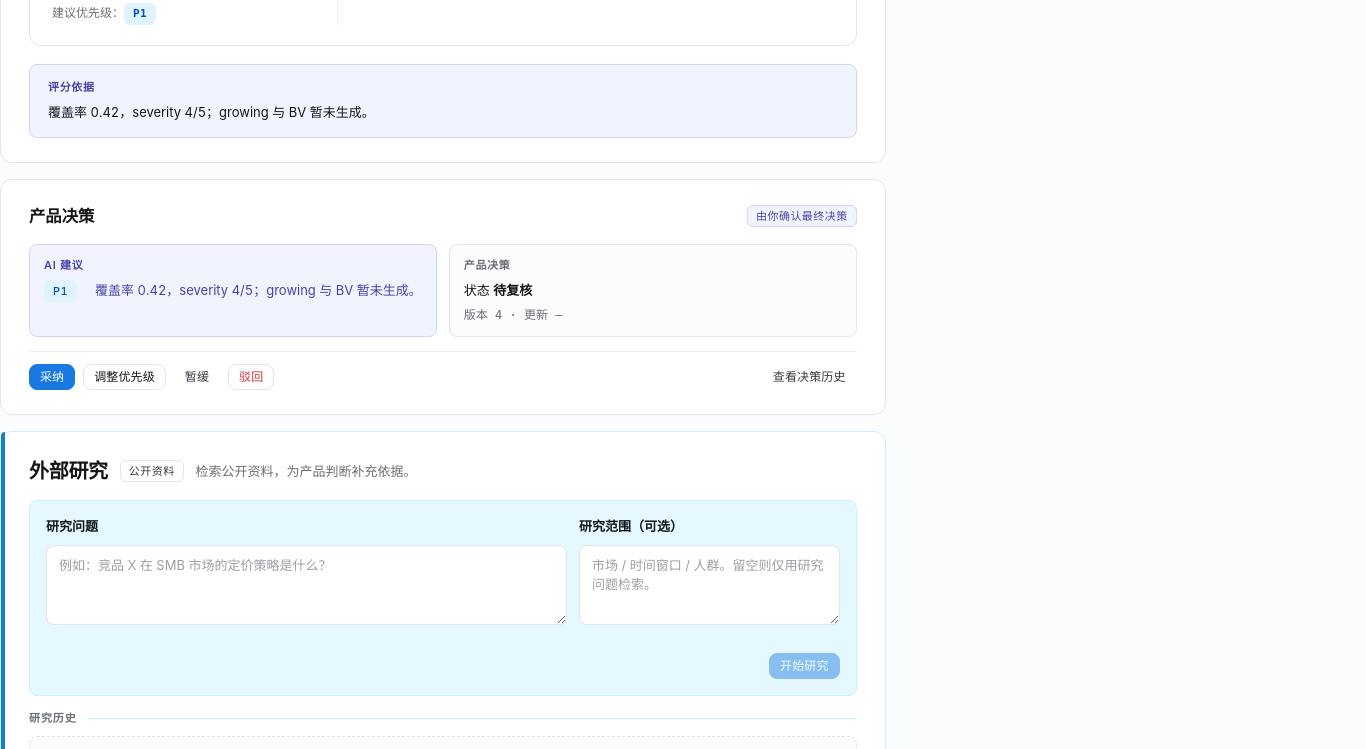
InsightDetailPage — Phase 7 B1 surface › on 409 conflict the page refetches decision and shows a conflict alert
(page scrolled)
Expected: the element with test id "decision-actions" is shown, [29, 351, 857, 390]
Click the button "采纳": (52,377) [29, 364, 75, 390]
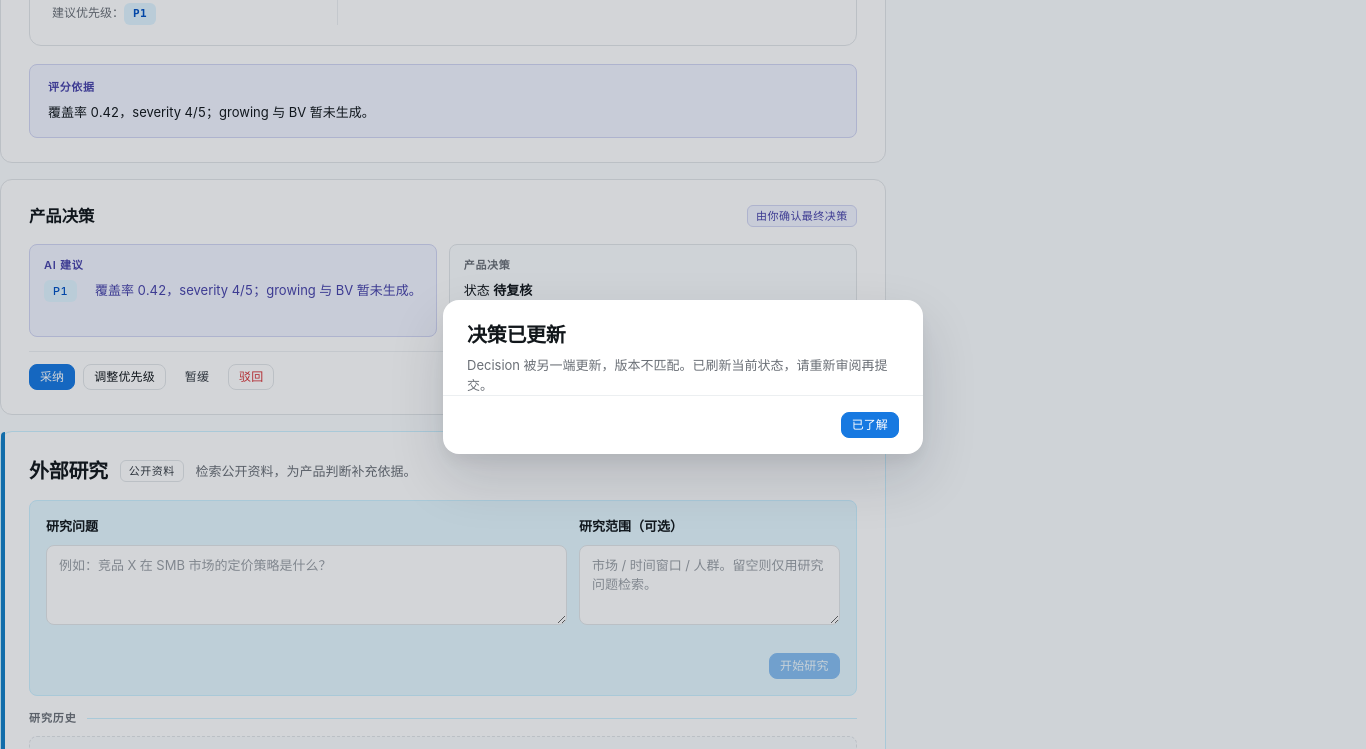
Expected: the heading "决策已更新" is shown, [467, 323, 566, 347]
